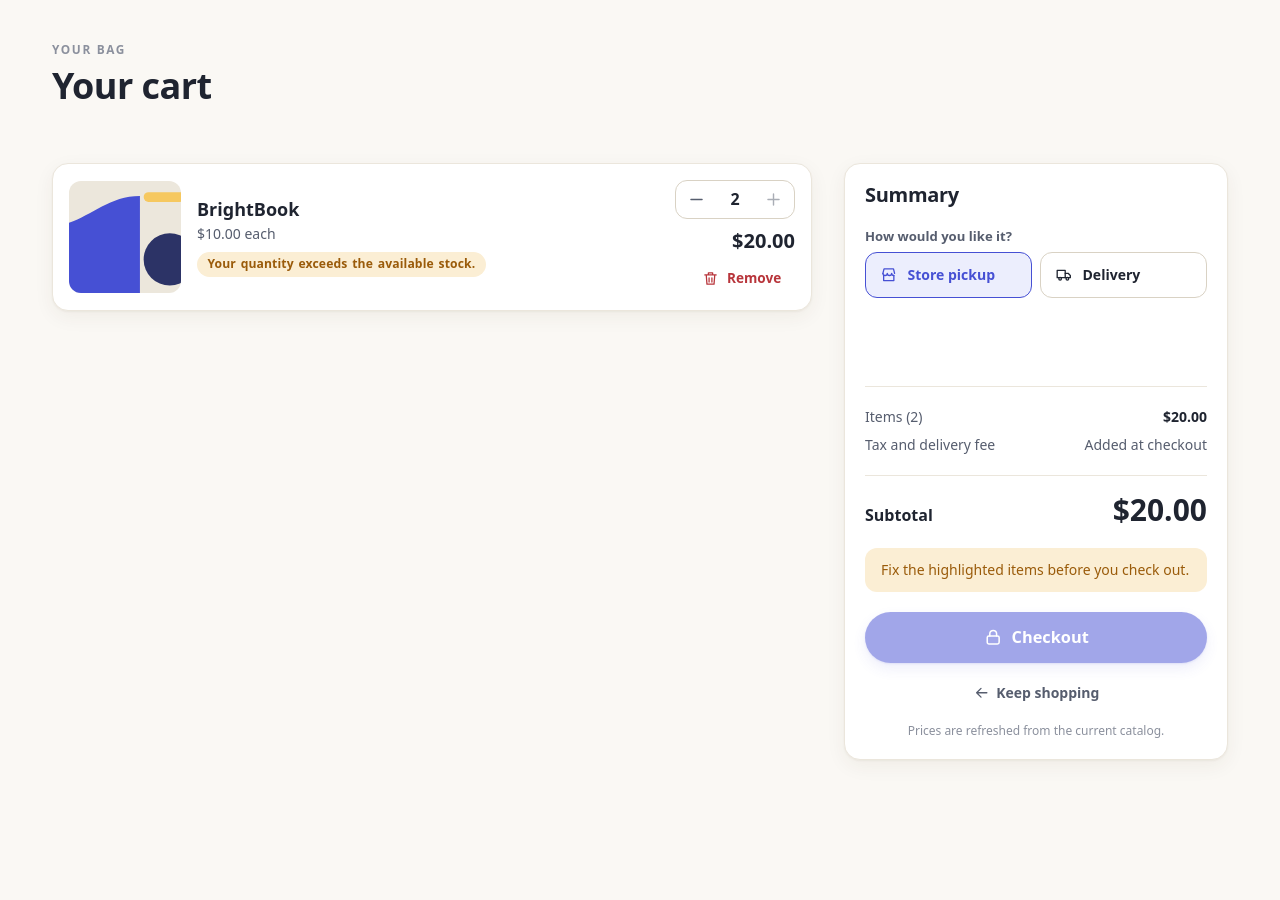
Test: customer cart page › shows stock warnings and keeps subtotal in sync with quantity and removal
Expected: the text "Your quantity exceeds the available stock." is shown, left=197, top=252, right=486, bottom=277
Expected: the text with test id "cart-subtotal" reads "$20.00", left=1163, top=407, right=1207, bottom=426
What coordinates should you click on to do the following:
click the button named "Decrease quantity for BrightBook"
I would click on:
 (696, 199)
Its box is left=676, top=181, right=717, bottom=218.
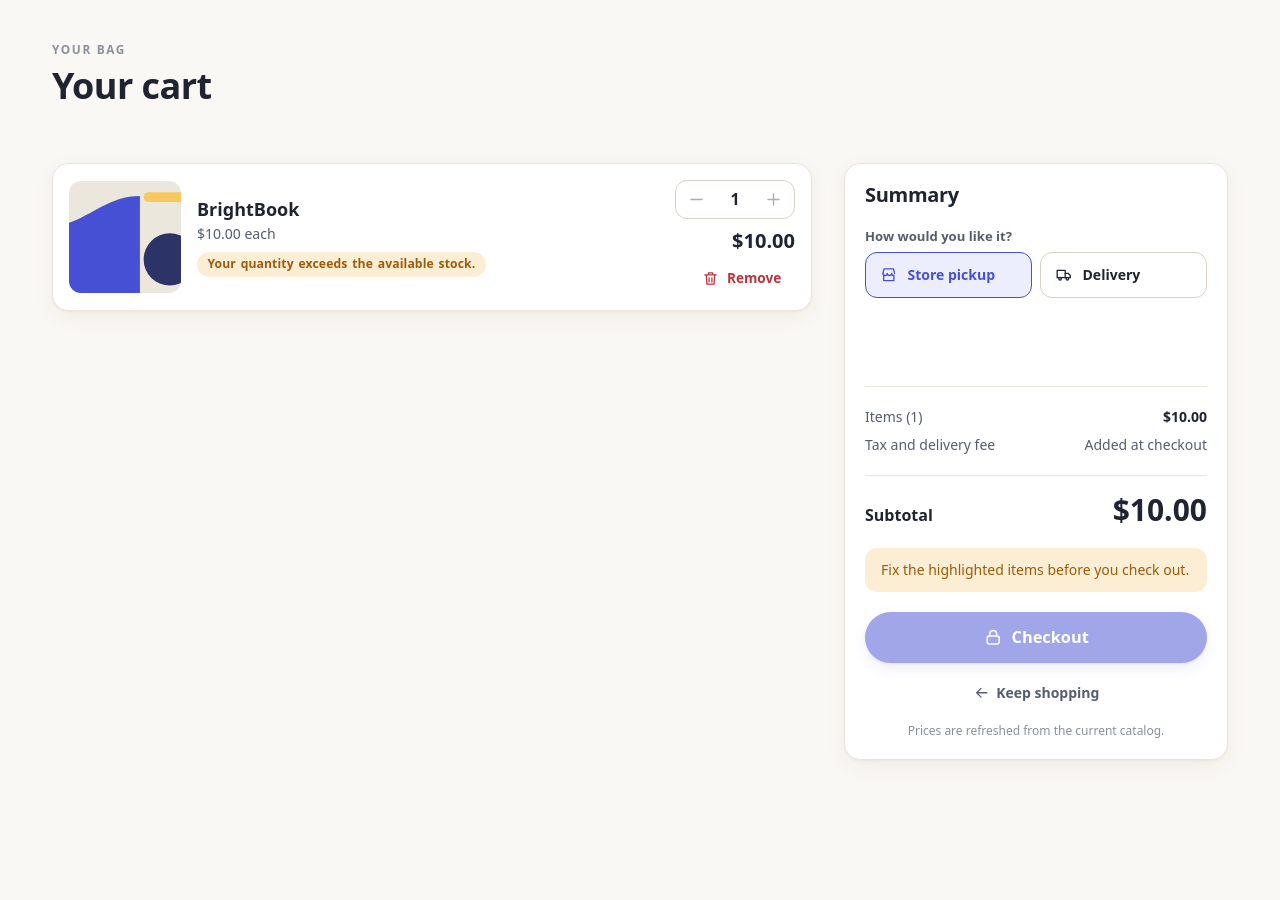
Expected: the text with test id "cart-subtotal" reads "$10.00", left=1163, top=407, right=1207, bottom=426
What coordinates should you click on to do the following:
click the button "Remove"
I would click on:
 (742, 279)
Its box is left=688, top=263, right=795, bottom=294.
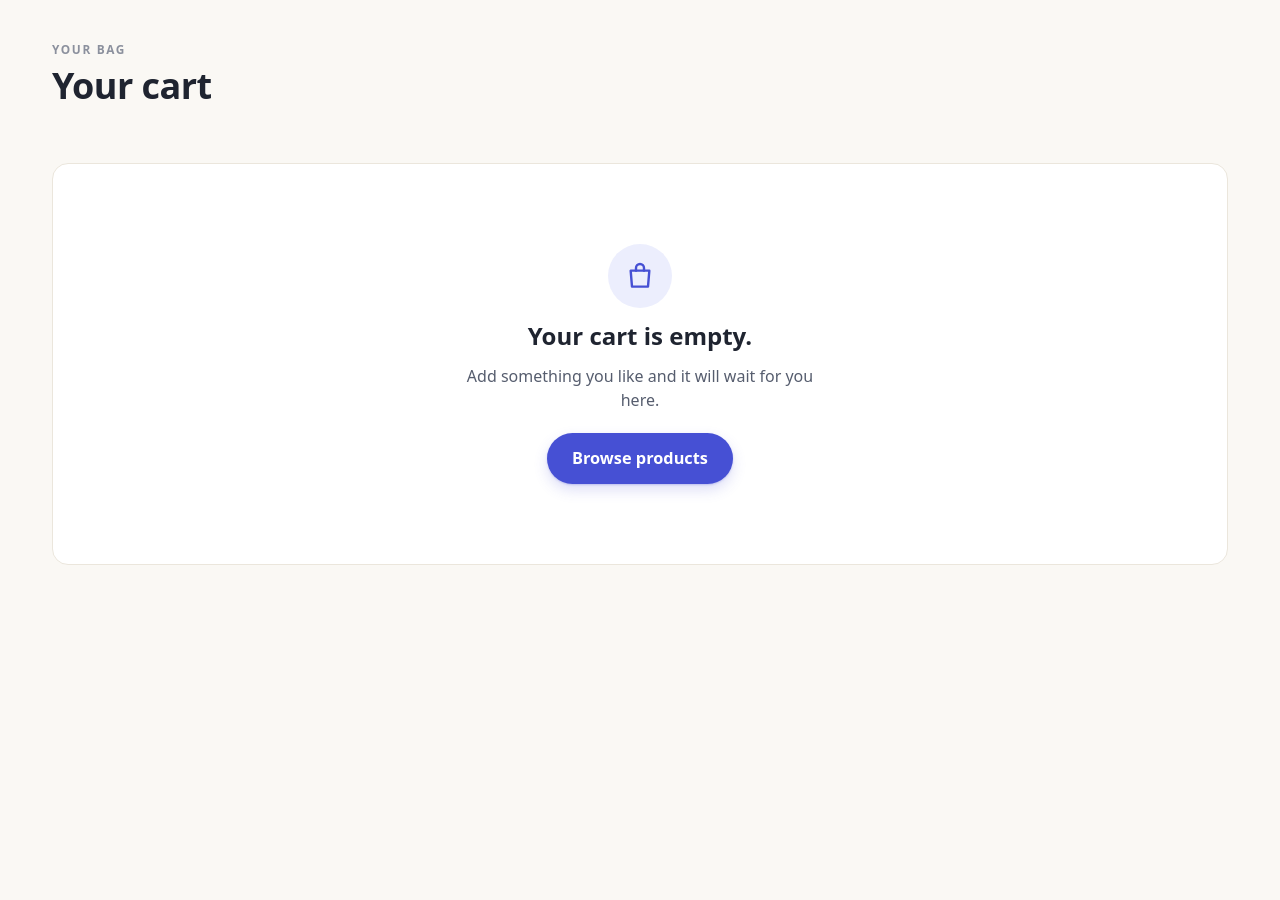
Expected: the text "Your cart is empty." is shown, left=528, top=320, right=752, bottom=352
